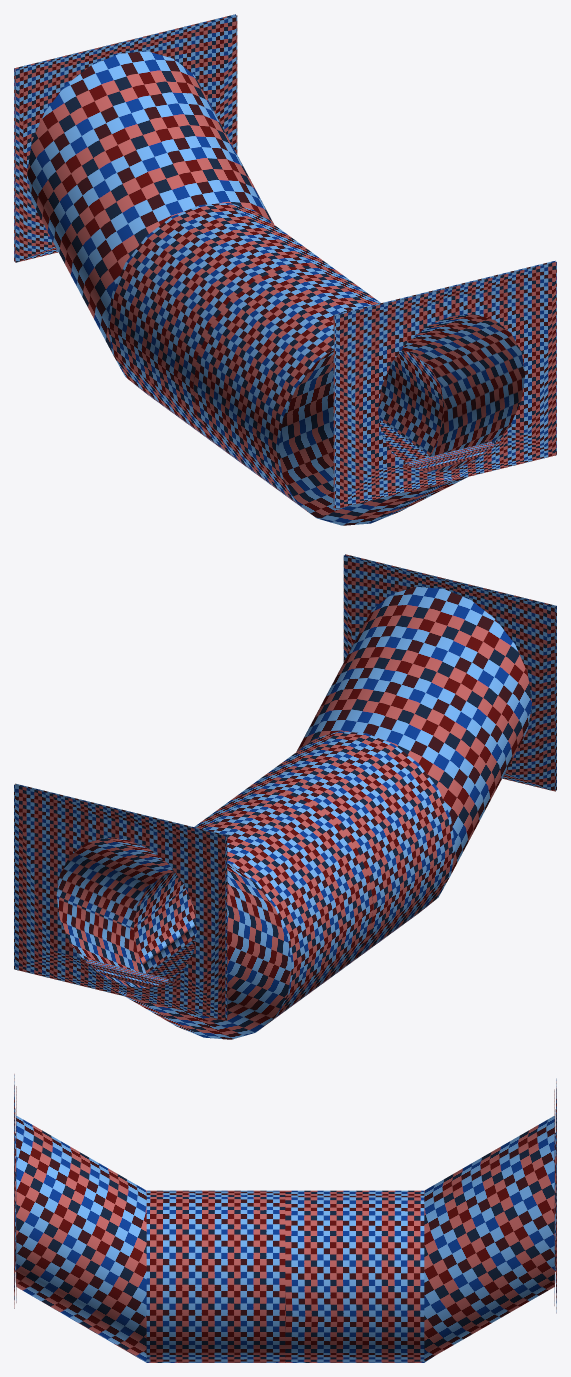
File: Tunnel_01.fbx
3 renders of one model, top to bottom at view 1: azimuth 30°, elevation 25°; view 2: azimuth 150°, elevation 25°; view 3: azimuth 270°, elevation 25°, orthographic. The views are drawn at different scales.
Parts seen in each view (by area): view 1: tunnel_01; view 2: tunnel_01; view 3: tunnel_01.
Part boxes in pixels (bbox=[...]): tunnel_01: bbox=[14, 14, 556, 525]; tunnel_01: bbox=[14, 554, 556, 1039]; tunnel_01: bbox=[14, 1074, 556, 1362].
Bounding box in the file's own units: 952 × 1147 × 2346.
Materials: 1 (1 with a texture image).
